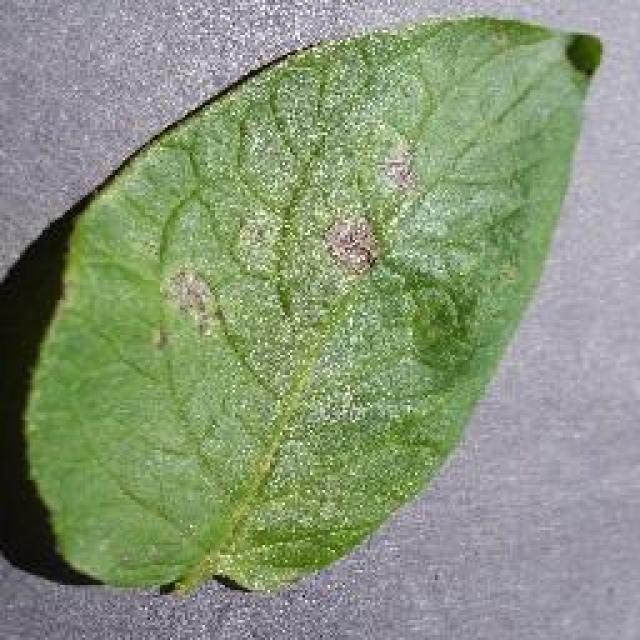Potato: (18, 12, 602, 598)
